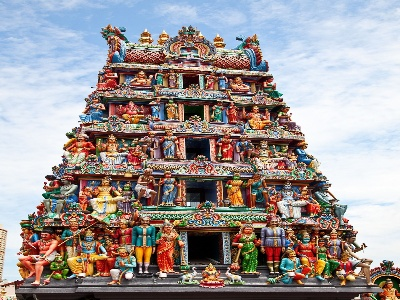gopura: (35, 28, 366, 271)
